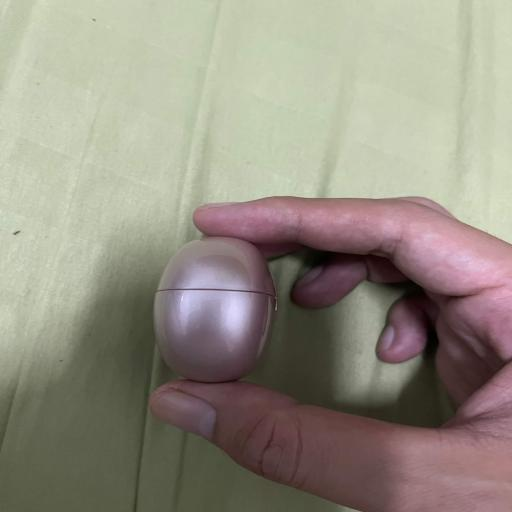GOOJODOQ: (154, 237, 276, 382)
